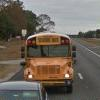buses: (20, 32, 77, 93), (1, 85, 50, 100)
